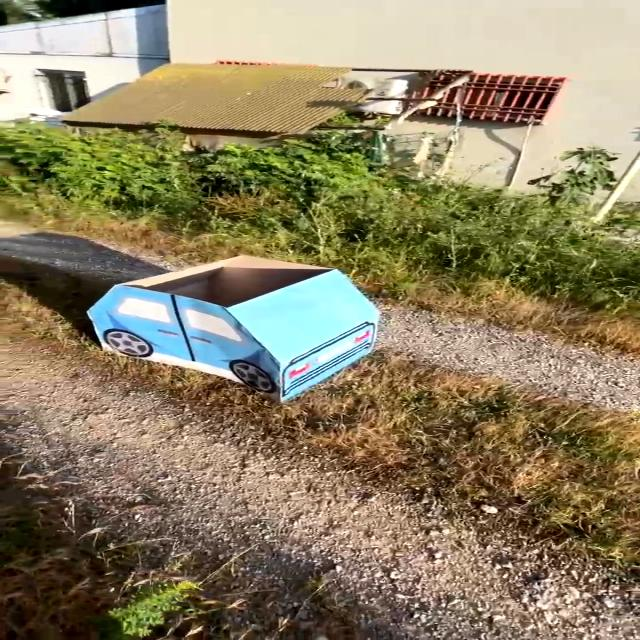blue_car: (17, 241, 439, 399)
